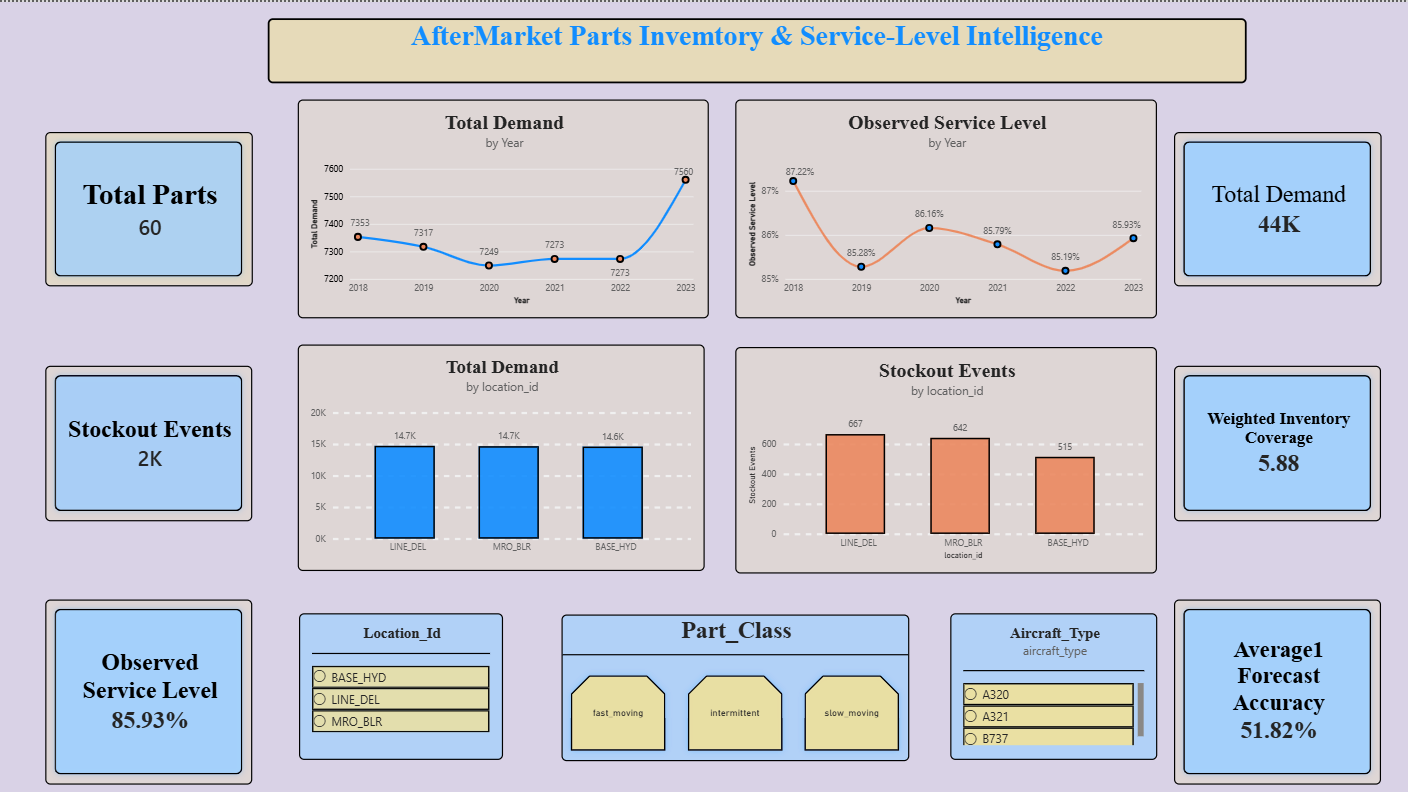

Layout of this report page (visuals, bound fields, positions):
{"tool":"powerbi","page":{"name":"Executive Overview","canvas":[1920,1080],"ordinal":0},"visuals":[{"type":"cardVisual","fields":{"Data":["public dim_date.Total Parts"]},"box":[62,176,280.6,209.1],"z":0},{"type":"cardVisual","fields":{"Data":["public dim_date.Total Demand"]},"box":[1590,176,280.6,209.1],"z":1000},{"type":"cardVisual","fields":{"Data":["public dim_date.Stockout Events"]},"box":[62,492,280,210],"z":2000},{"type":"cardVisual","fields":{"Data":["public dim_date.Observed Service Level"]},"box":[62,808,280,250],"z":3000},{"type":"cardVisual","fields":{"Data":["public dim_date.Weighted Inventory Coverage"]},"box":[1590,492,280,210],"z":4000},{"type":"cardVisual","fields":{"Data":["public dim_date.Average1 Forecast Accuracy"]},"box":[1590,808,280,250],"z":5000},{"type":"lineChart","fields":{"Category":["public dim_date.period_start_date.Variation.Date Hierarchy.Year","public dim_date.period_start_date.Variation.Date Hierarchy.Quarter","public dim_date.period_start_date.Variation.Date Hierarchy.Month","public dim_date.period_start_date.Variation.Date Hierarchy.Day"],"Y":["public dim_date.Total Demand"]},"box":[404,132,556,296],"z":6000},{"type":"lineChart","fields":{"Category":["public dim_date.period_start_date.Variation.Date Hierarchy.Year","public dim_date.period_start_date.Variation.Date Hierarchy.Quarter","public dim_date.period_start_date.Variation.Date Hierarchy.Month","public dim_date.period_start_date.Variation.Date Hierarchy.Day"],"Y":["public dim_date.Observed Service Level"]},"box":[996,132,570,296],"z":7000},{"type":"clusteredColumnChart","fields":{"Category":["public dim_location.location_id"],"Y":["public dim_date.Total Demand"]},"box":[404,464,550,306],"z":8000},{"type":"clusteredColumnChart","fields":{"Category":["public dim_location.location_id"],"Y":["public dim_date.Stockout Events"]},"box":[996,466,570,306],"z":9000},{"type":"textbox","box":[364,22,1324,88],"z":10000},{"type":"advancedSlicerVisual","title":"Part_Class","fields":{"Values":["public dim_part.part_class"]},"box":[760,828,470,198],"z":11000},{"type":"listSlicer","title":"Aircraft_Type","fields":{"Values":["public dim_part.aircraft_type"]},"box":[1286,826,280,198],"z":12000},{"type":"listSlicer","title":"Location_Id","fields":{"Values":["public dim_location.location_id"]},"box":[406,826,276,198],"z":13000}]}

Visuals, with their boxes in screenshot pixels (x1, y1, x2, y2), scaled from the page's 1920x1080 canvas onto the 1408x792 screenshot:
cardVisual - public dim_date.Total Parts: (45,129,251,282)
cardVisual - public dim_date.Total Demand: (1166,129,1372,282)
cardVisual - public dim_date.Stockout Events: (45,361,251,515)
cardVisual - public dim_date.Observed Service Level: (45,593,251,776)
cardVisual - public dim_date.Weighted Inventory Coverage: (1166,361,1371,515)
cardVisual - public dim_date.Average1 Forecast Accuracy: (1166,593,1371,776)
lineChart - public dim_date.period_start_date.Variation.Date Hierarchy.Year x public dim_date.period_start_date.Variation.Date Hierarchy.Quarter: (296,97,704,314)
lineChart - public dim_date.period_start_date.Variation.Date Hierarchy.Year x public dim_date.period_start_date.Variation.Date Hierarchy.Quarter: (730,97,1148,314)
clusteredColumnChart - public dim_location.location_id x public dim_date.Total Demand: (296,340,700,565)
clusteredColumnChart - public dim_location.location_id x public dim_date.Stockout Events: (730,342,1148,566)
textbox: (267,16,1238,81)
"Part_Class" advancedSlicerVisual: (557,607,902,752)
"Aircraft_Type" listSlicer: (943,606,1148,751)
"Location_Id" listSlicer: (298,606,500,751)
